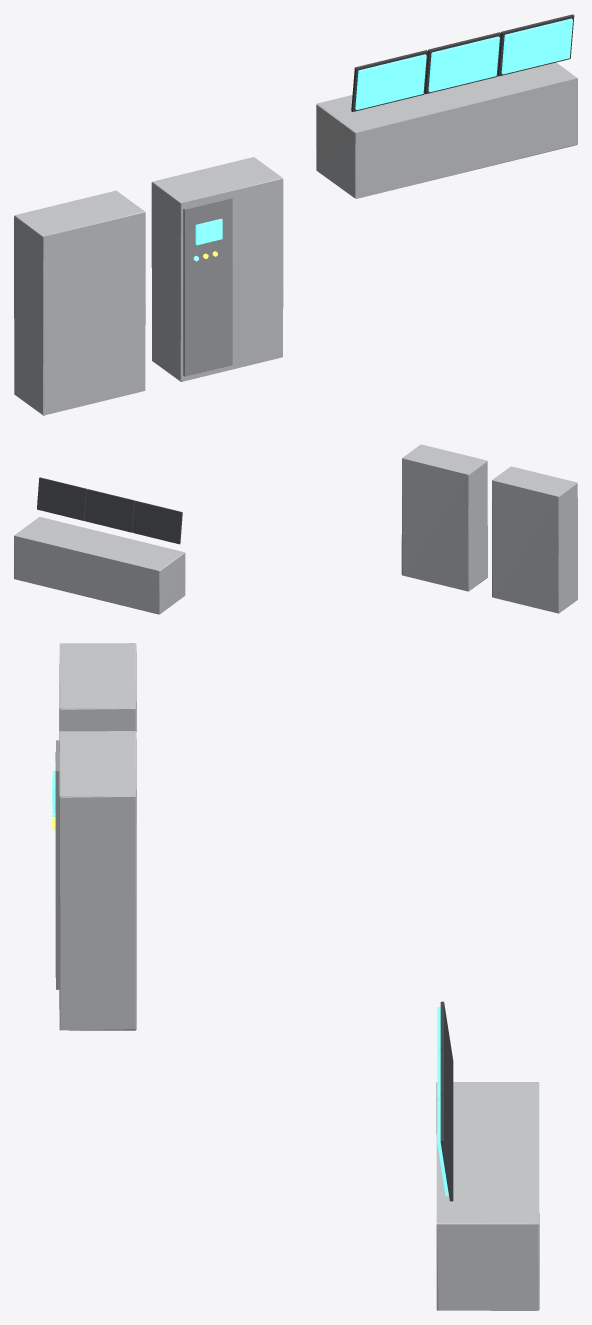
The model's file is cell_0_0_lod1.glb.
3 views of the same model, one above another, from view 1: azimuth 30°, elevation 25°; view 2: azimuth 150°, elevation 25°; view 3: azimuth 270°, elevation 25° (orthographic). The views are drawn at different scales.
Parts seen in each view (by area): view 1: P_EQ_cabinet_01__cabinet, P_EQ_console_01__desk, P_EQ_cabinet_02__cabinet, P_EQ_cabinet_02__door, P_EQ_console_01__screen_0, P_EQ_console_01__screen_1, P_EQ_console_01__screen_2, P_EQ_console_01__bezel_0, P_EQ_console_01__bezel_1, P_EQ_console_01__bezel_2, P_EQ_cabinet_02__hmi; view 2: P_EQ_cabinet_02__cabinet, P_EQ_cabinet_01__cabinet, P_EQ_console_01__desk, P_EQ_console_01__bezel_0, P_EQ_console_01__bezel_1, P_EQ_console_01__bezel_2; view 3: P_EQ_cabinet_02__cabinet, P_EQ_console_01__desk, P_EQ_cabinet_01__cabinet, P_EQ_cabinet_02__door, P_EQ_console_01__bezel_2.
Boxes of the visible parts, x1,y1,x2,y2 form: P_EQ_cabinet_01__cabinet: (14,190,145,415); P_EQ_console_01__desk: (316,62,577,198); P_EQ_cabinet_02__cabinet: (151,157,283,381); P_EQ_cabinet_02__door: (183,197,232,376); P_EQ_console_01__screen_0: (355,54,426,109); P_EQ_console_01__screen_1: (428,36,499,92); P_EQ_console_01__screen_2: (501,18,572,74); P_EQ_console_01__bezel_0: (351,50,427,111); P_EQ_console_01__bezel_1: (424,32,501,94); P_EQ_console_01__bezel_2: (497,14,574,76); P_EQ_cabinet_02__hmi: (195,218,222,245); P_EQ_cabinet_02__cabinet: (401,444,487,591); P_EQ_cabinet_01__cabinet: (492,466,577,613); P_EQ_console_01__desk: (14,517,185,614); P_EQ_console_01__bezel_0: (132,500,182,544); P_EQ_console_01__bezel_1: (84,489,134,532); P_EQ_console_01__bezel_2: (37,477,86,520); P_EQ_cabinet_02__cabinet: (59,731,136,1030); P_EQ_console_01__desk: (436,1082,539,1310); P_EQ_cabinet_01__cabinet: (59,643,136,751); P_EQ_cabinet_02__door: (55,740,59,989); P_EQ_console_01__bezel_2: (440,1095,453,1201).
Bounding box in the file's own units: 7.89 × 2 × 3.75.
